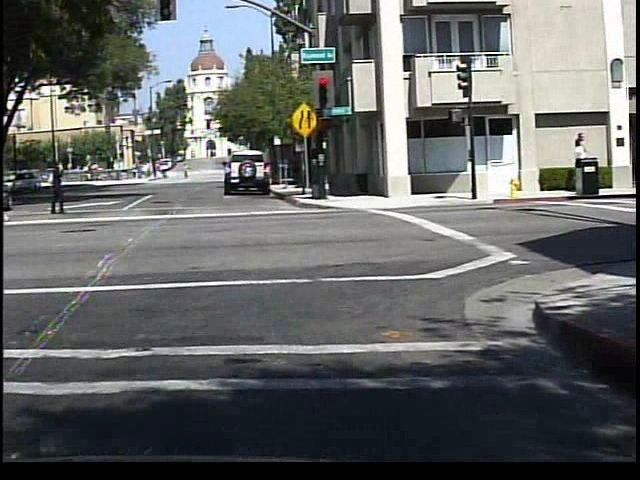person: (40, 155, 72, 217), (2, 167, 30, 230), (179, 161, 190, 180), (157, 165, 167, 181)
